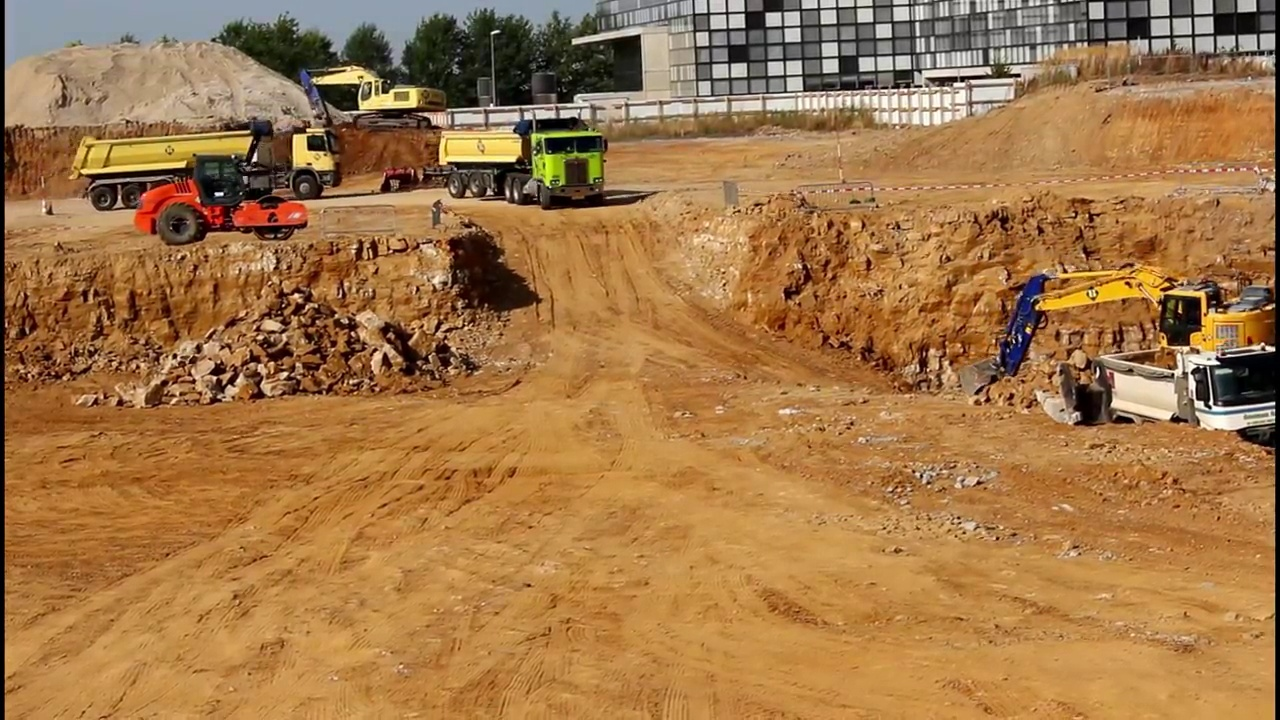compactor: (133, 154, 310, 247)
excavator: (954, 264, 1280, 409), (292, 59, 447, 138)
truck: (65, 121, 346, 212), (1086, 340, 1280, 458), (438, 112, 612, 214)
